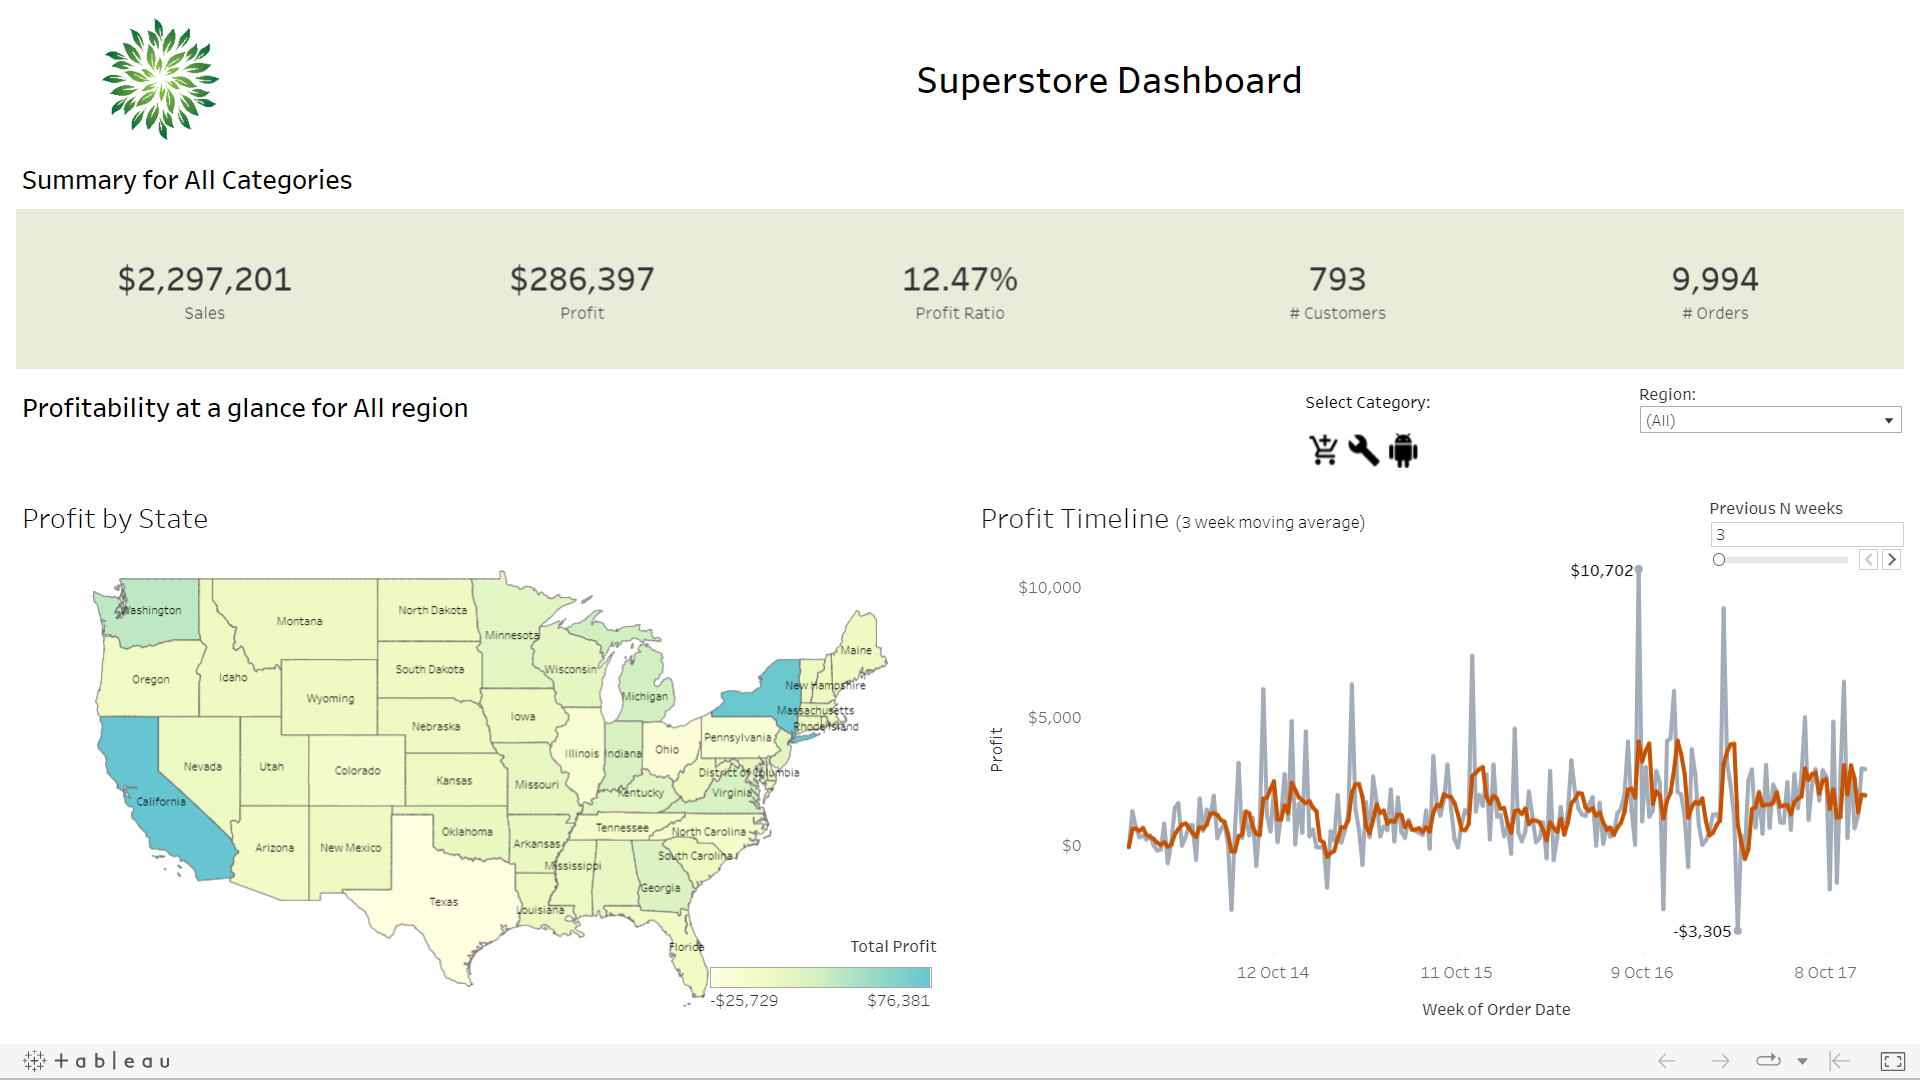

This screenshot's page, from the dashboard's own definition file:
{"tool":"tableau","page":{"name":"Dashboard","canvas":[1000,1000],"units":"permille","ordinal":0},"visuals":[{"type":"image","param":"Image/—Pngtree—go green logo with green_5333754.png","box":[5,9.1,138.4,115]},{"type":"text","box":[143.4,9.1,740,115]},{"type":"worksheet","title":"BAN","mark":"Automatic","box":[5,124.1,990,192.5]},{"type":"worksheet","title":"Title","mark":"Automatic","box":[5,316.6,706.4,93.4]},{"type":"worksheet","title":"Menu","mark":"Shape","box":[711.3,316.6,156.5,93.4]},{"type":"filter","title":"Profit Map","param":"[federated.02w3z8c0wf4pcp1dwcrlc1v7y4ju].[none:Region (Orders):nk]","box":[867.8,316.6,127.2,93.4]},{"type":"worksheet","title":"Profit Map","mark":"Automatic","box":[5,410,490,580.9]},{"type":"worksheet","title":"Profit(Moving Average)","mark":"Automatic","rows":["Profit","Calculation1"],"cols":["Order Date"],"box":[495,410,500,580.9]},{"type":"parameter","param":"[Parameters].[Parameter 1]","box":[889.6,412.3,102.1,85.4]},{"type":"legend","title":"Profit Map","param":"[federated.02w3z8c0wf4pcp1dwcrlc1v7y4ju].[sum:Profit:qk]","box":[366.9,895.2,121.2,80.9]}]}

Visuals, with their boxes on the dashboard's canvas, which has no fixed pixel size, in thousandths of its width and height (x1, y1, x2, y2). These are canvas units, not pixel positions in the 1920x1080 screenshot, which may show the page scaled, cropped or inside an application window:
image: {"left": 5, "top": 9, "right": 143, "bottom": 124}
text: {"left": 143, "top": 9, "right": 883, "bottom": 124}
"BAN" worksheet: {"left": 5, "top": 124, "right": 995, "bottom": 317}
"Title" worksheet: {"left": 5, "top": 317, "right": 711, "bottom": 410}
"Menu" worksheet (Shape marks): {"left": 711, "top": 317, "right": 868, "bottom": 410}
"Profit Map" filter: {"left": 868, "top": 317, "right": 995, "bottom": 410}
"Profit Map" worksheet: {"left": 5, "top": 410, "right": 495, "bottom": 991}
"Profit(Moving Average)" worksheet: {"left": 495, "top": 410, "right": 995, "bottom": 991}
parameter: {"left": 890, "top": 412, "right": 992, "bottom": 498}
"Profit Map" legend: {"left": 367, "top": 895, "right": 488, "bottom": 976}
